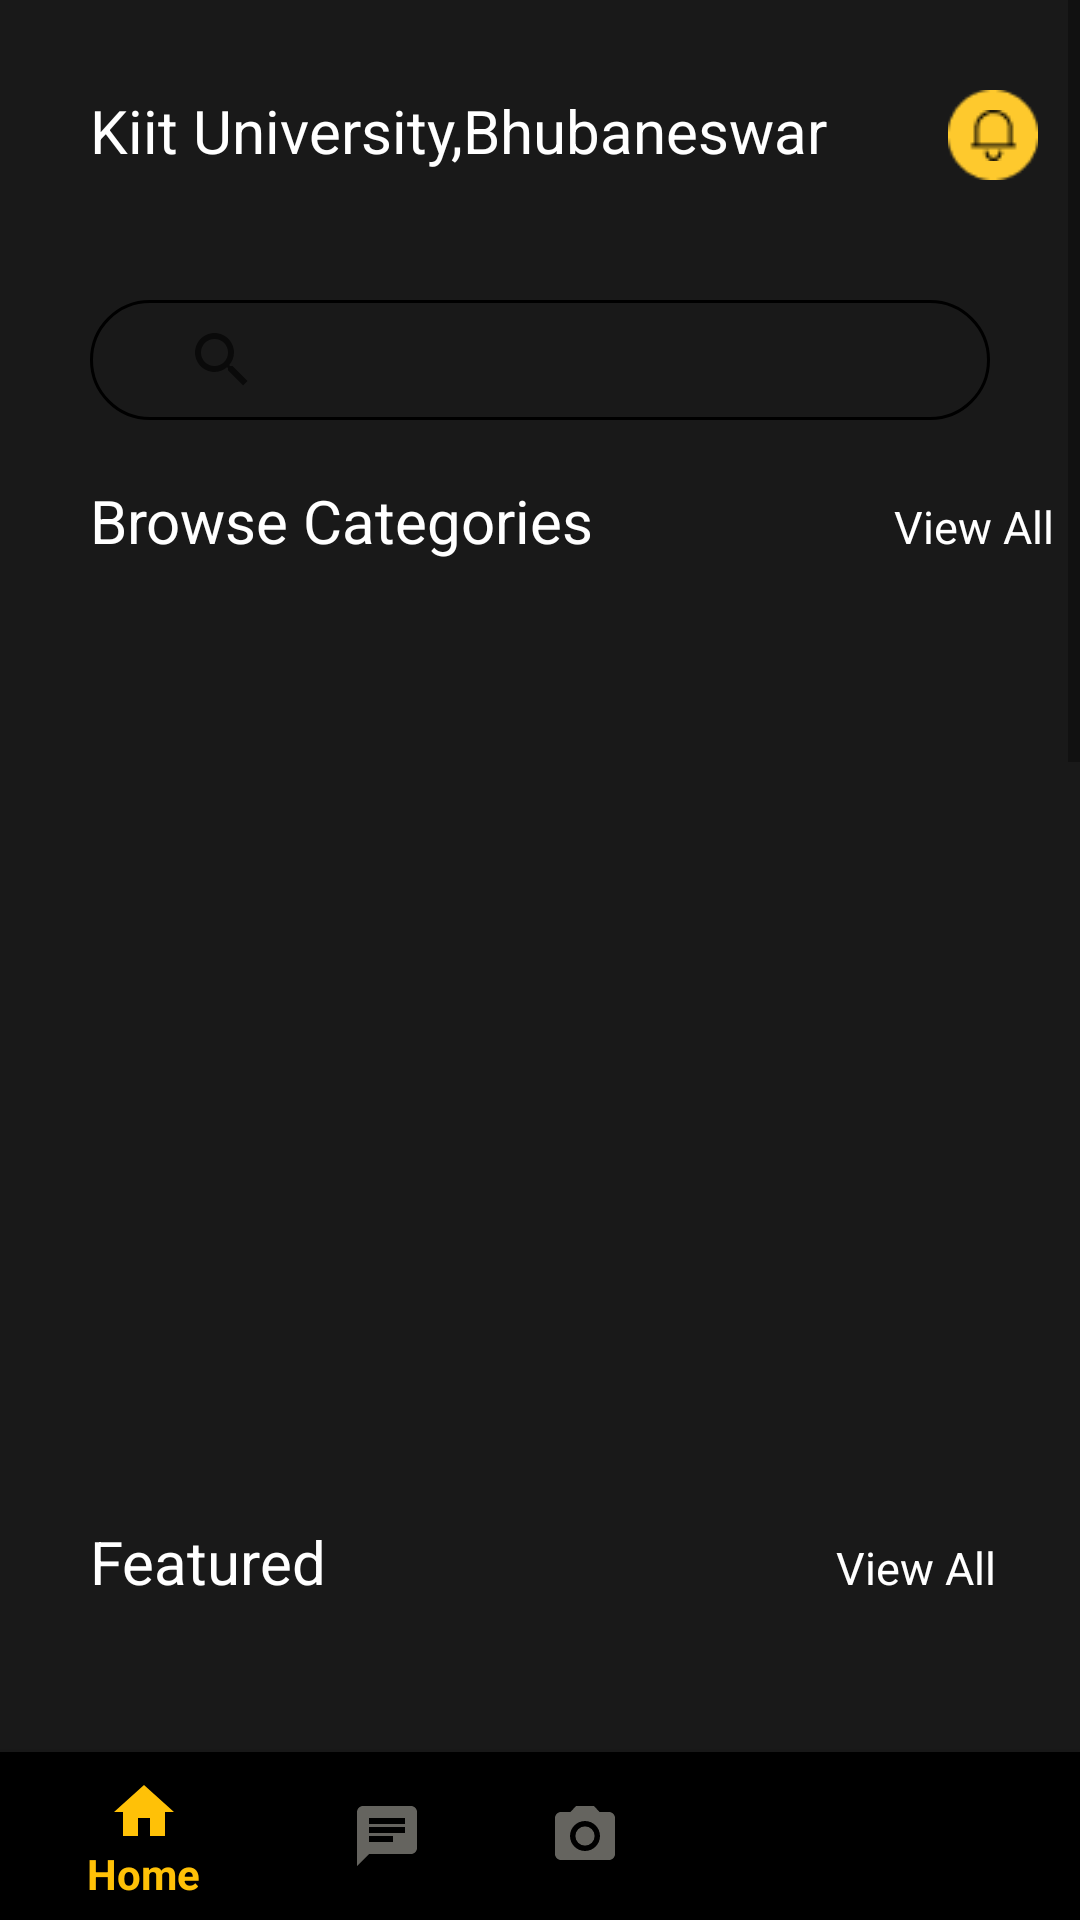

Icon click points for this 1080px x 1920px phone screenshot, format [x,y]:
bell: [993,135]
